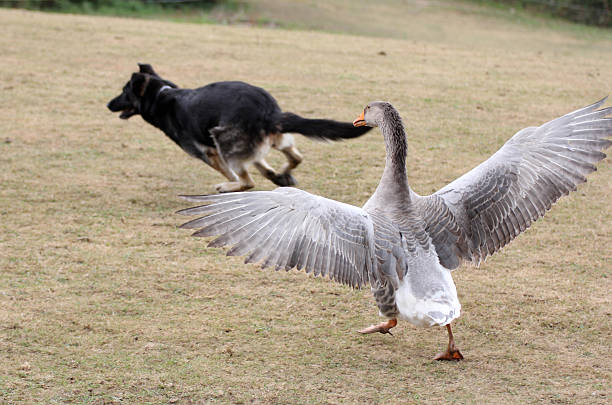goose: (284, 96, 479, 363)
